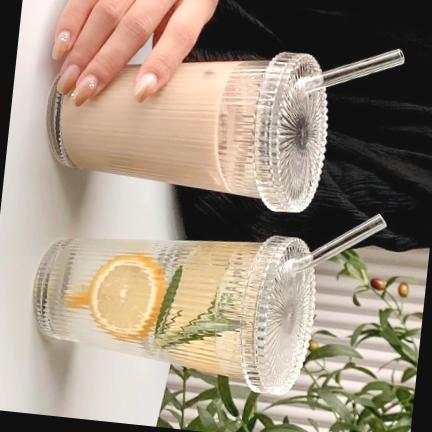container: (47, 52, 327, 212), (33, 236, 315, 394)
fluid: (34, 238, 240, 377), (61, 61, 237, 193)
fluid-surface: (216, 243, 255, 376), (217, 66, 250, 193)
